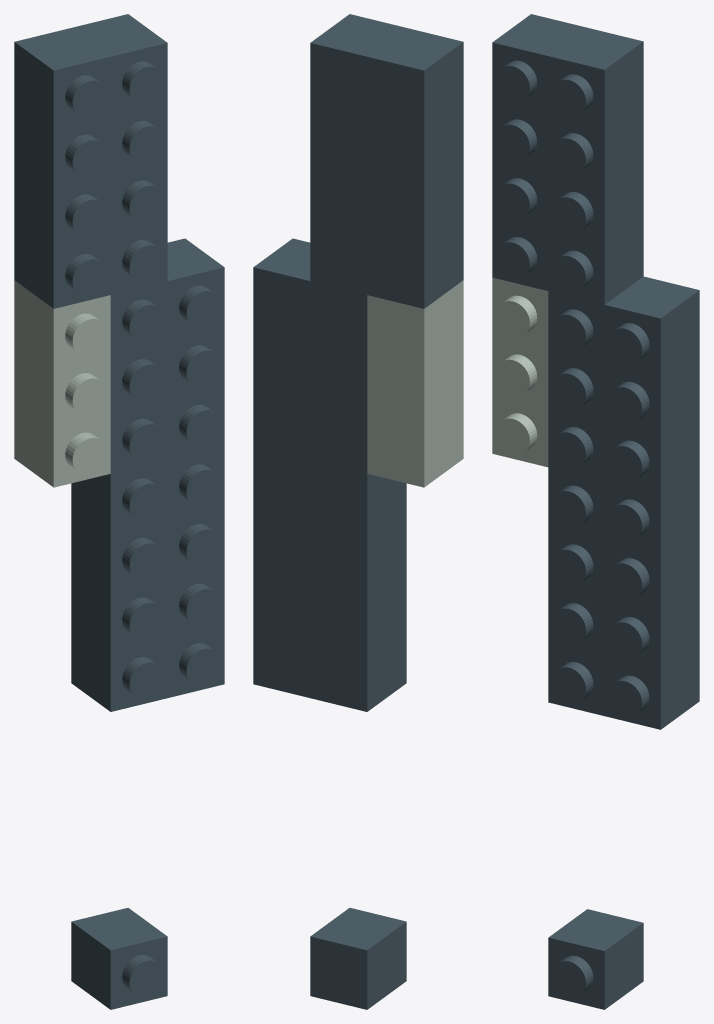
Rendered from current.glb.
The picture shows the model from 3 angles, left to right: view 1: azimuth 30°, elevation 25°; view 2: azimuth 150°, elevation 25°; view 3: azimuth 330°, elevation 25°; orthographic projection.
Parts seen in each view (by area): view 1: world; view 2: world; view 3: world.
Boxes of the visible parts, box(x1,y1,x2,y2) form: world: box(14, 14, 224, 1009); world: box(253, 14, 463, 1009); world: box(492, 14, 699, 1009).
Size of the model in its own units: 24 by 128 by 11.4.
